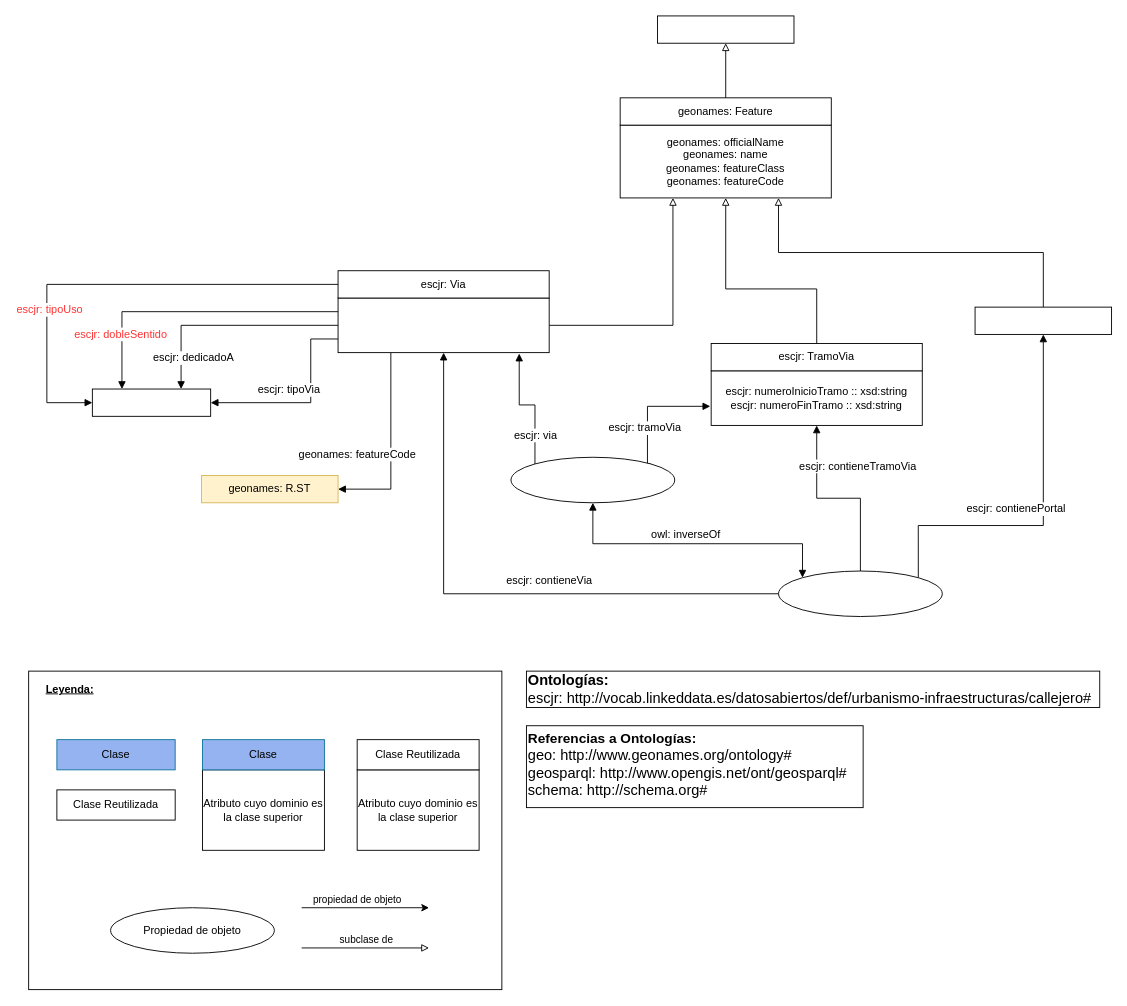
Some shapes in this 1127 by 1006 pixel diagram are drawn without their labels. The box of each missing label's shape, as (x1, y1, x2, y2) in pixels:
escjr: longitud :: xsd:double escjr: esCalleTranquila :: xsd:bool: (337, 297, 549, 353)
escjr: Portal: (974, 306, 1112, 334)
geosparql: sfContains: (778, 570, 942, 617)
geosparql: sfWithin: (510, 456, 675, 503)
schema:Place: (657, 15, 794, 43)
skos: Concept: (91, 388, 211, 416)
